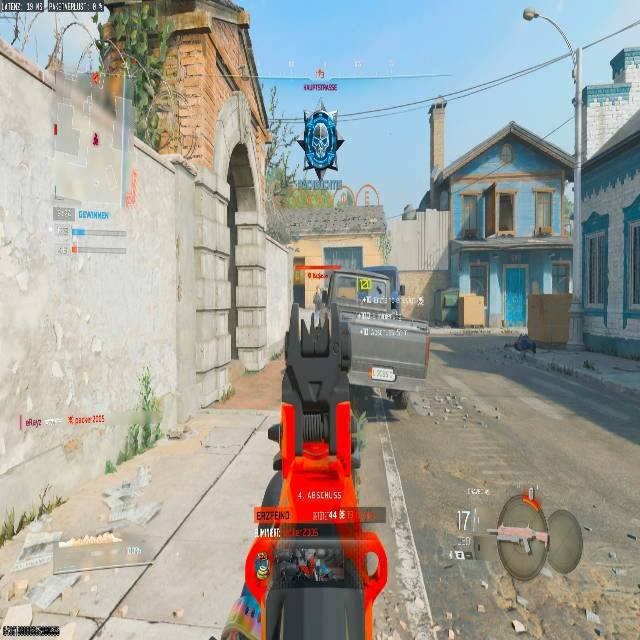player: (301, 109, 342, 179), (311, 286, 330, 328)
